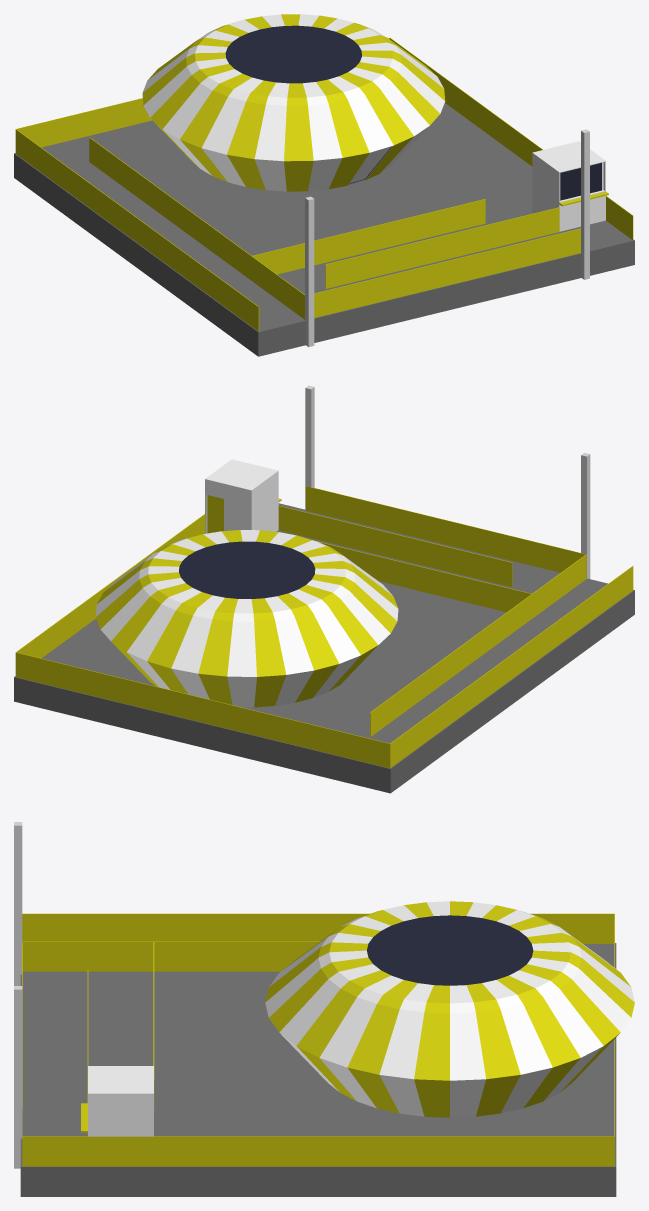
Rendered from Graviton.glb.
The picture shows the model from 3 angles, top to bottom: view 1: azimuth 30°, elevation 25°; view 2: azimuth 150°, elevation 25°; view 3: azimuth 270°, elevation 25°; orthographic projection. The views are drawn at different scales.
Parts seen in each view (by area): view 1: Cube, Cylinder, Cube.002, Cube.008, Cube.003, Cube.005, Cube.004, Cube.001, Cube.006, Cube.007, Cube.009, Cube.010; view 2: Cylinder, Cube, Cube.007, Cube.002, Cube.008, Cube.003, Cube.005, Cube.001, Cube.004, Cube.006, Cube.009, Cube.010; view 3: Cube, Cylinder, Cube.006, Cube.008, Cube.005, Cube.001, Cube.010, Cube.009.
Boxes of the visible parts, box(x1,y1,x2,y2) form: Cube: box(14, 103, 634, 356); Cylinder: box(142, 14, 445, 191); Cube.002: box(314, 228, 580, 317); Cube.008: box(15, 129, 259, 331); Cube.003: box(325, 207, 559, 288); Cube.005: box(89, 137, 304, 319); Cube.004: box(252, 199, 485, 274); Cube.001: box(532, 141, 608, 231); Cube.006: box(390, 38, 633, 239); Cube.007: box(16, 37, 389, 147); Cube.009: box(305, 196, 314, 347); Cube.010: box(581, 129, 589, 279); Cylinder: box(95, 530, 398, 707); Cube: box(14, 503, 634, 793); Cube.007: box(15, 652, 389, 768); Cube.002: box(305, 486, 585, 572); Cube.008: box(390, 566, 633, 768); Cube.003: box(278, 505, 512, 587); Cube.005: box(370, 554, 586, 736); Cube.001: box(205, 459, 281, 533); Cube.004: box(316, 541, 531, 612); Cube.006: box(16, 514, 205, 658); Cube.009: box(581, 453, 590, 578); Cube.010: box(305, 385, 314, 509); Cube: box(20, 943, 616, 1196); Cylinder: box(265, 901, 634, 1117); Cube.006: box(22, 1136, 614, 1166); Cube.008: box(22, 913, 614, 943); Cube.005: box(22, 941, 319, 971); Cube.001: box(81, 1066, 153, 1136); Cube.010: box(14, 986, 22, 1168); Cube.009: box(14, 822, 22, 985).
Bounding box in the file's own units: 16.1 × 6 × 18.87.
